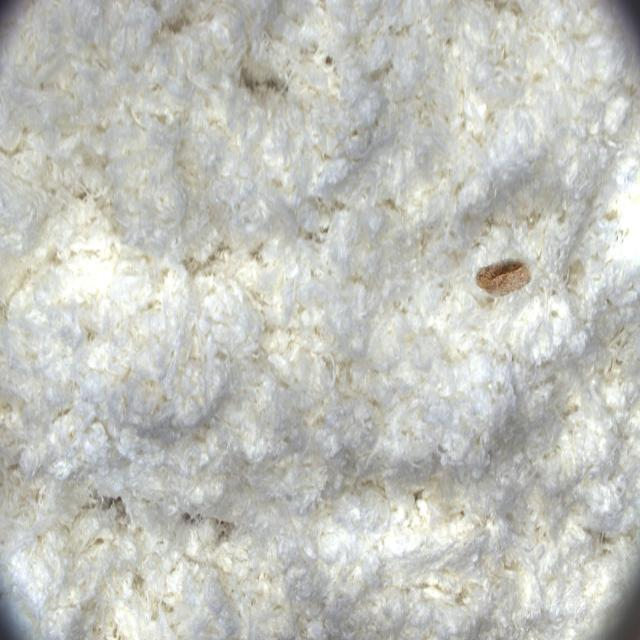dust: (452, 225, 548, 330)
